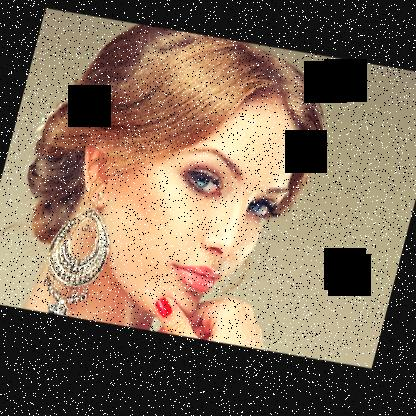Female: (46, 53, 310, 352)
